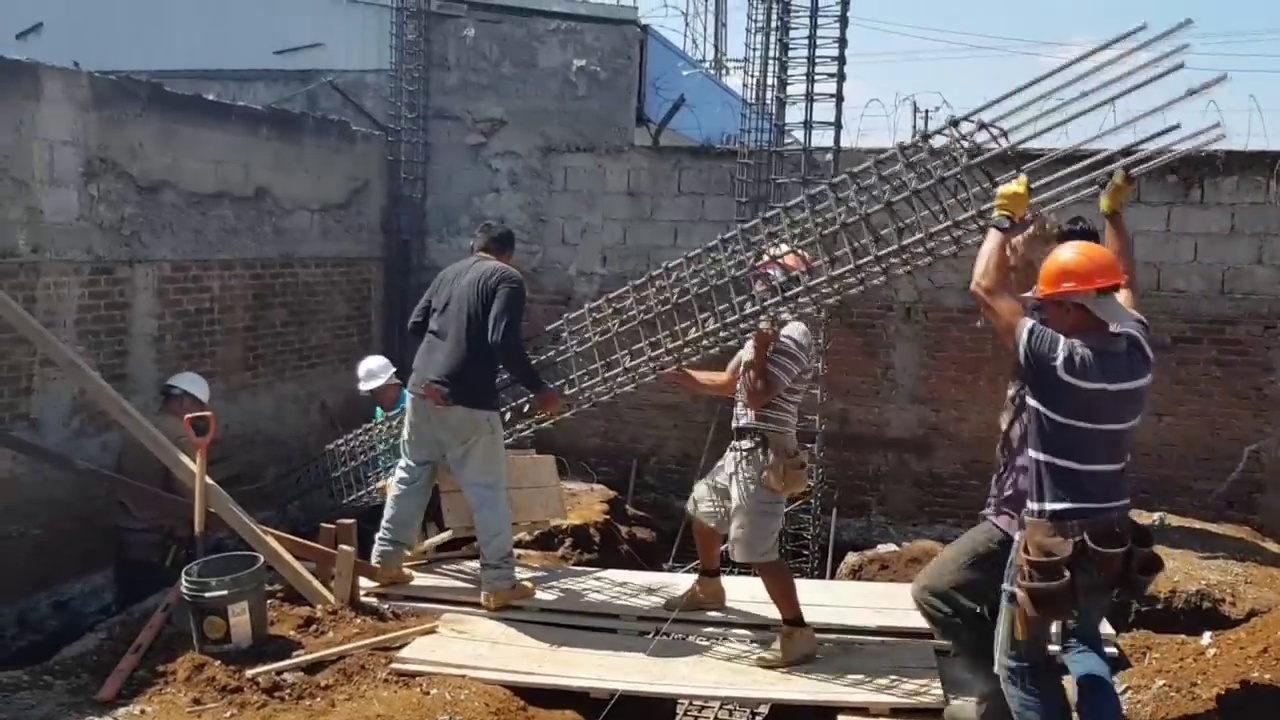helmet: (1030, 243, 1142, 310), (158, 374, 209, 419), (753, 244, 805, 283), (357, 355, 398, 396)
helmet-off: (465, 226, 516, 271)
helmet-on: (1028, 237, 1145, 337), (745, 244, 810, 324), (155, 374, 212, 448), (357, 355, 402, 414)
person: (937, 162, 1157, 711), (364, 223, 545, 616), (679, 241, 819, 645), (105, 374, 215, 609), (356, 350, 420, 491)
